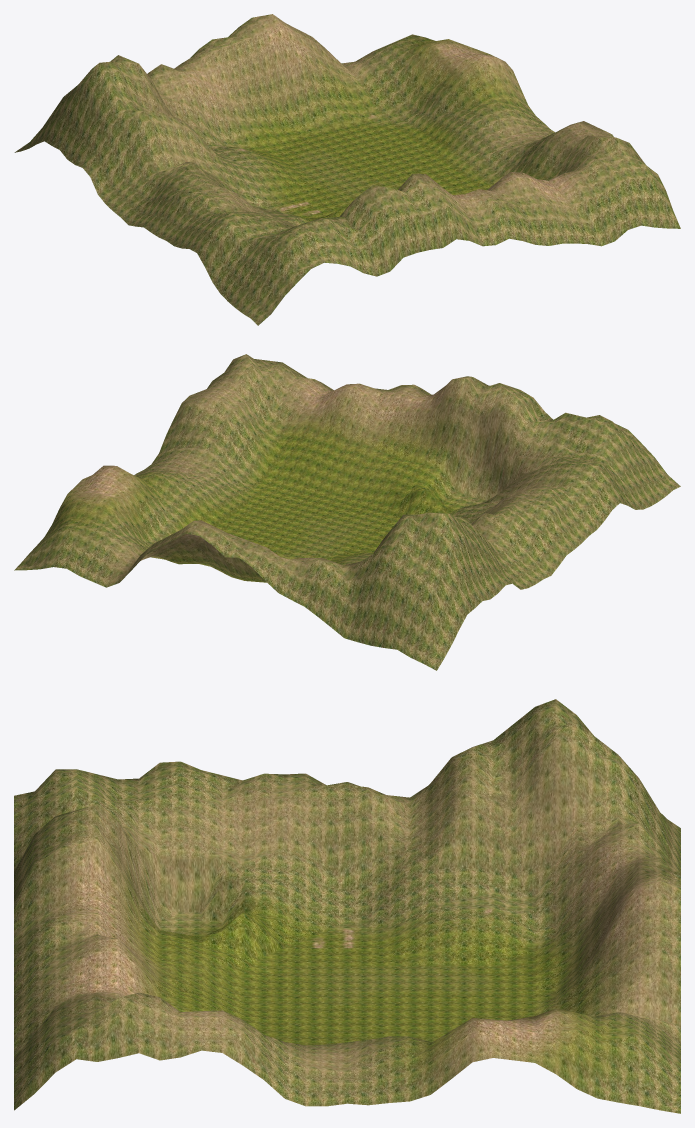
3 renders of one model, top to bottom at view 1: azimuth 30°, elevation 25°; view 2: azimuth 150°, elevation 25°; view 3: azimuth 270°, elevation 25°, orthographic. The views are drawn at different scales.
Visible parts, largest first — view 1: Mesh; view 2: Mesh; view 3: Mesh.
Boxes of the visible parts, <box> form: Mesh: <box>14,14,680,325</box>; Mesh: <box>14,354,680,670</box>; Mesh: <box>14,699,680,1113</box>.
Bounding box in the file's own units: 50 × 13.26 × 50.
1 material, 1 textured.
